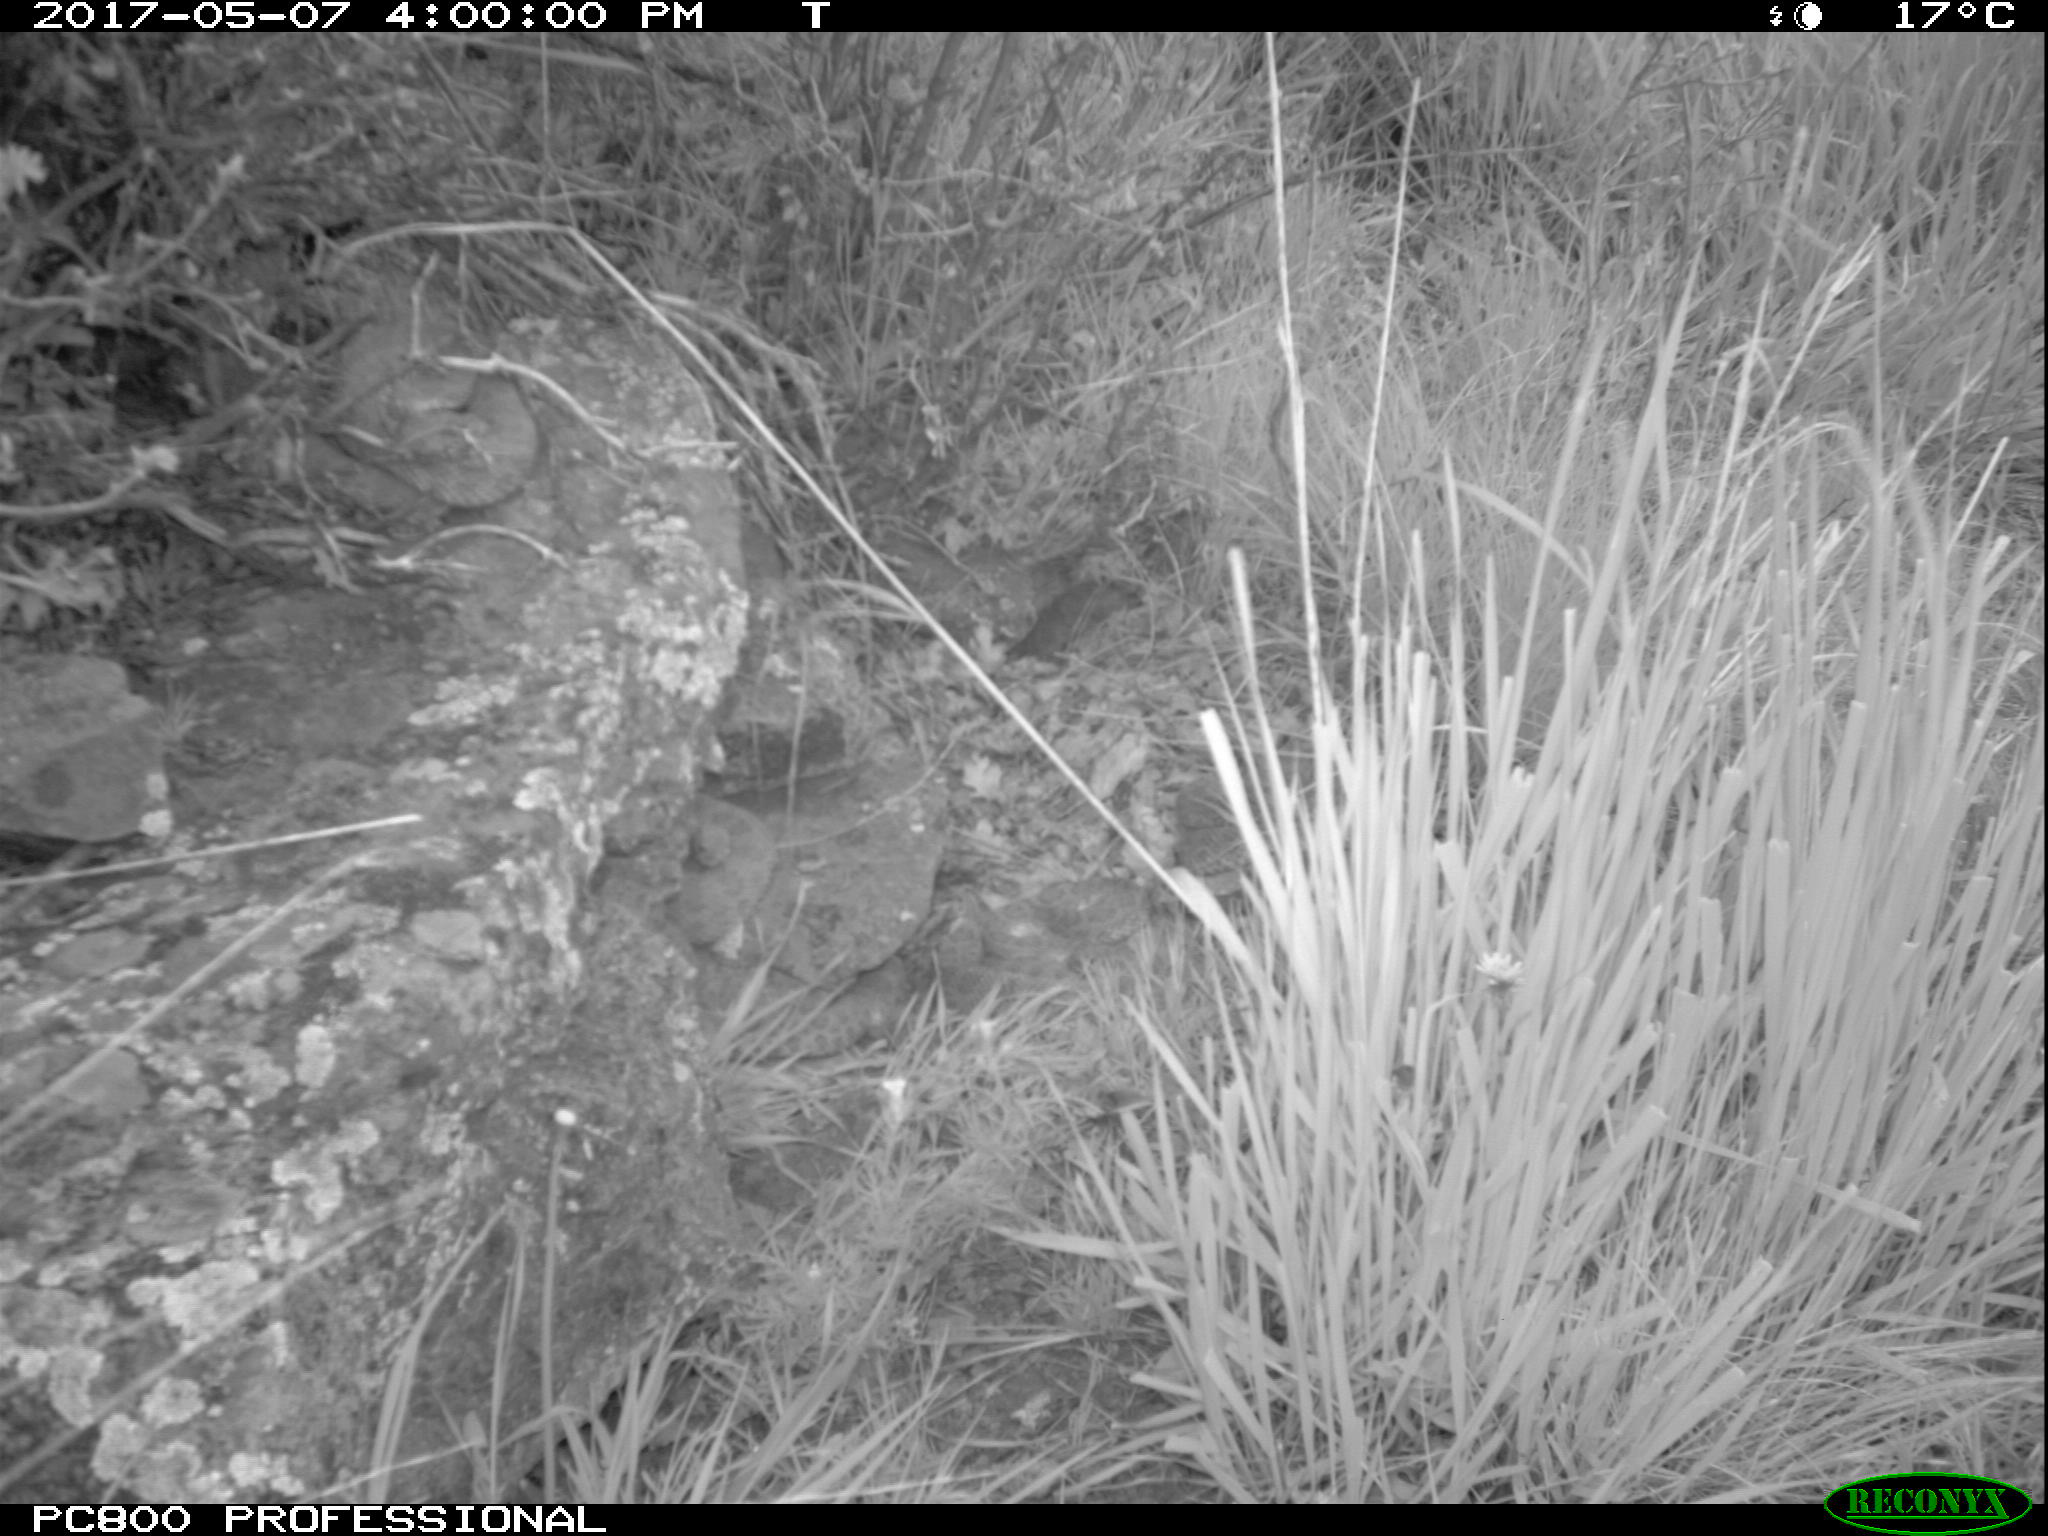snake: (390, 369, 552, 516), (930, 894, 1161, 994), (666, 787, 779, 954), (1156, 750, 1261, 879)
